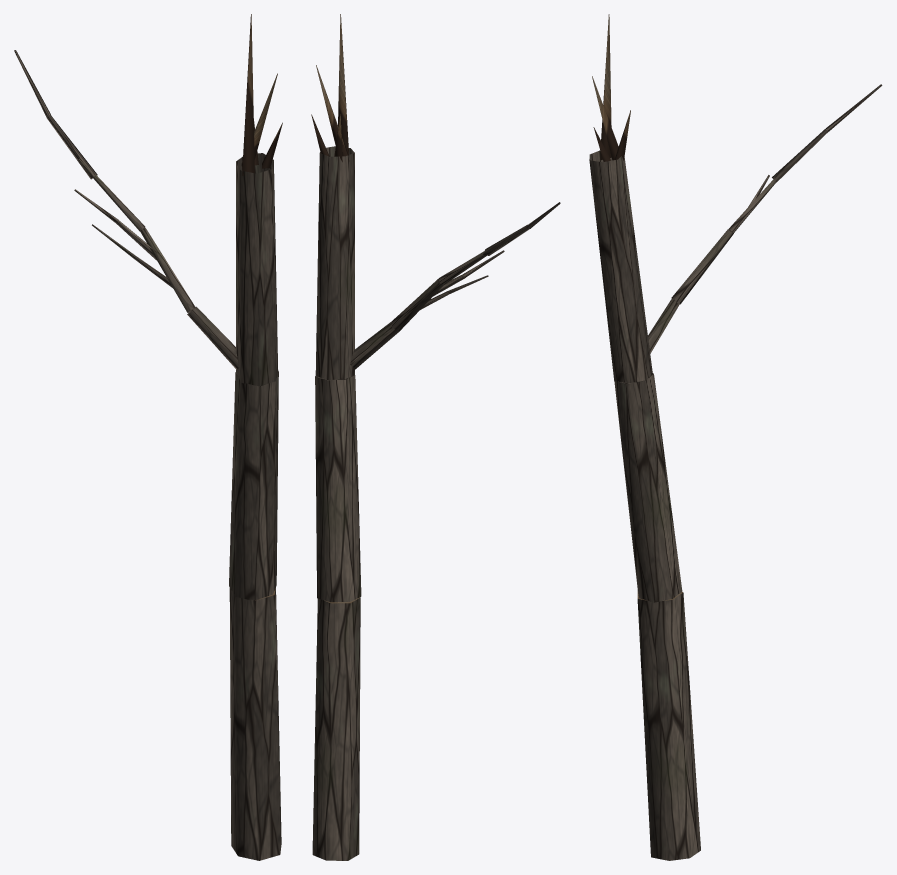
File: S7U_Tree_Broken_B.fbx
3 renders of one model, left to right at view 1: azimuth 30°, elevation 25°; view 2: azimuth 210°, elevation 25°; view 3: azimuth 270°, elevation 25°, orthographic. The views are drawn at different scales.
Visible parts, largest first — view 1: S7U_Tree_Broken_B; view 2: S7U_Tree_Broken_B; view 3: S7U_Tree_Broken_B.
Boxes of the visible parts, x1,y1,x2,y2 form: S7U_Tree_Broken_B: (14,14,282,860); S7U_Tree_Broken_B: (311,14,560,860); S7U_Tree_Broken_B: (589,14,882,860).
Bounding box in the file's own units: 1.18 × 6.37 × 2.06.
